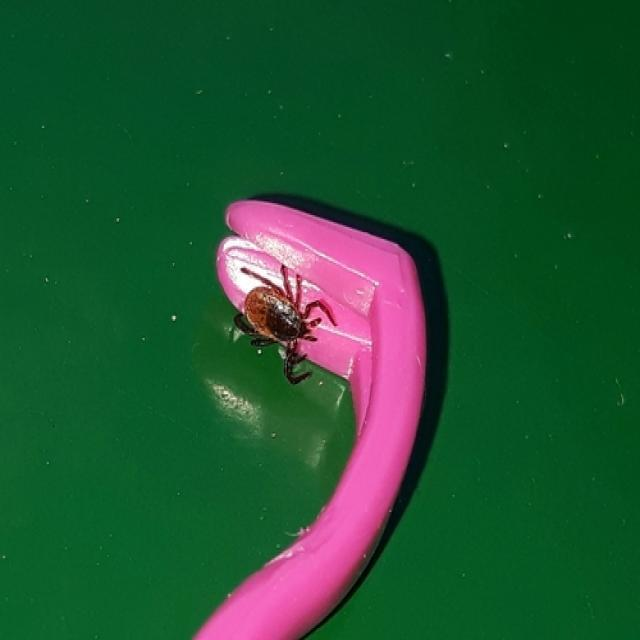Ixodes Ricinus-F: (233, 265, 338, 386)
